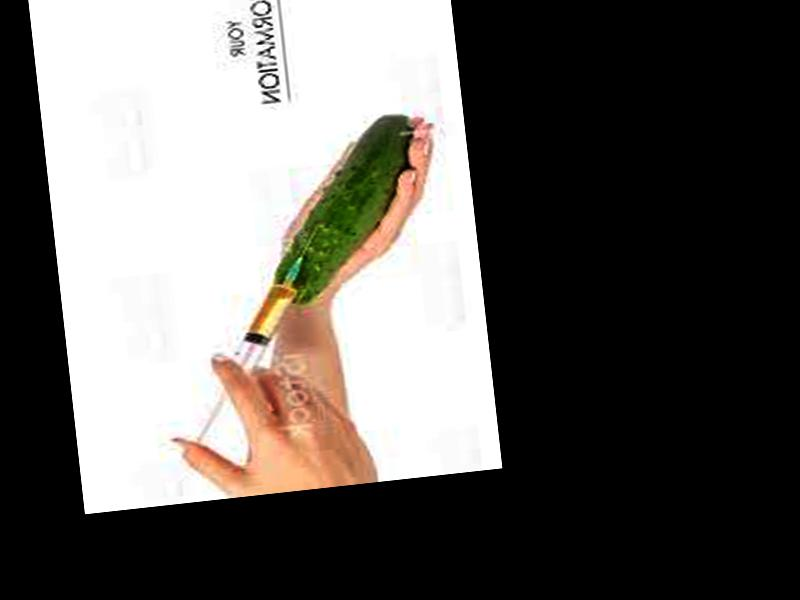Cucumber: (254, 114, 427, 306)
